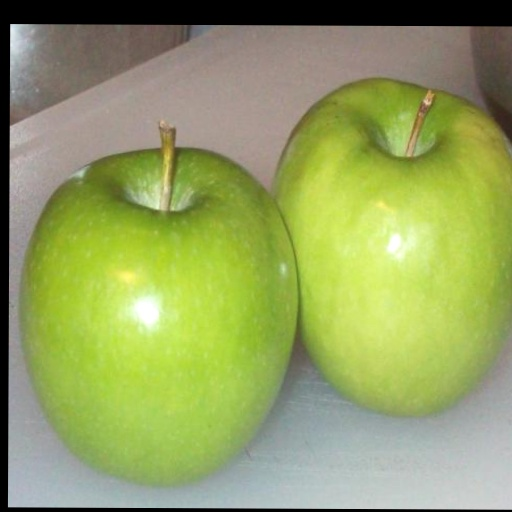fruit: (19, 149, 296, 485), (274, 79, 512, 415)
